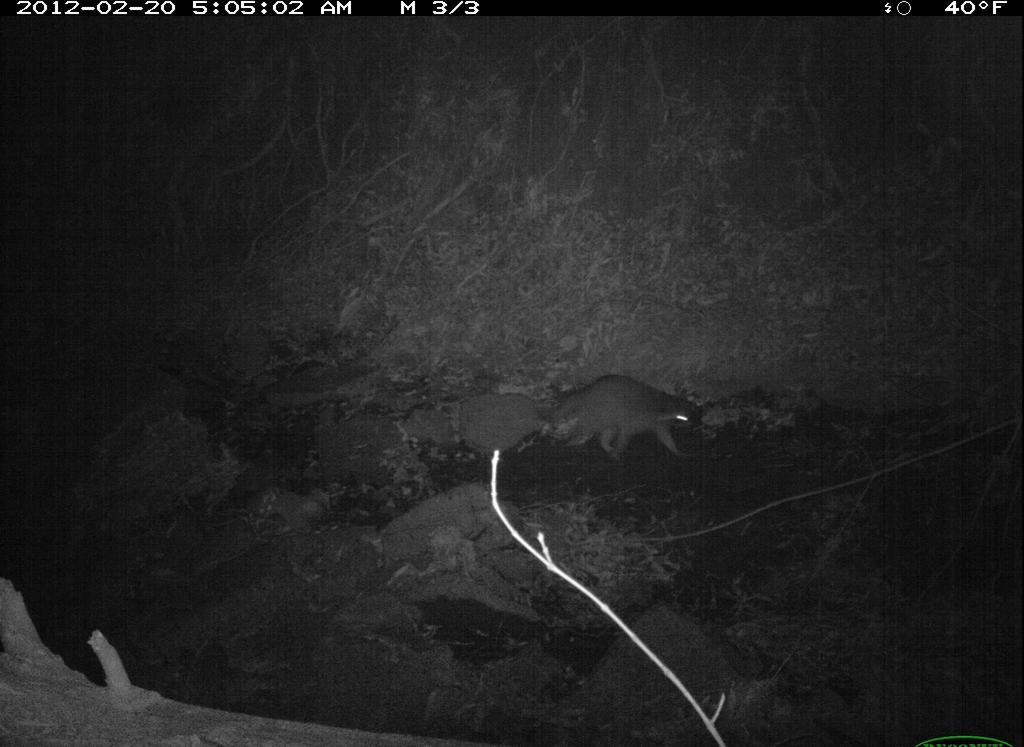raccoon: (543, 364, 722, 450)
